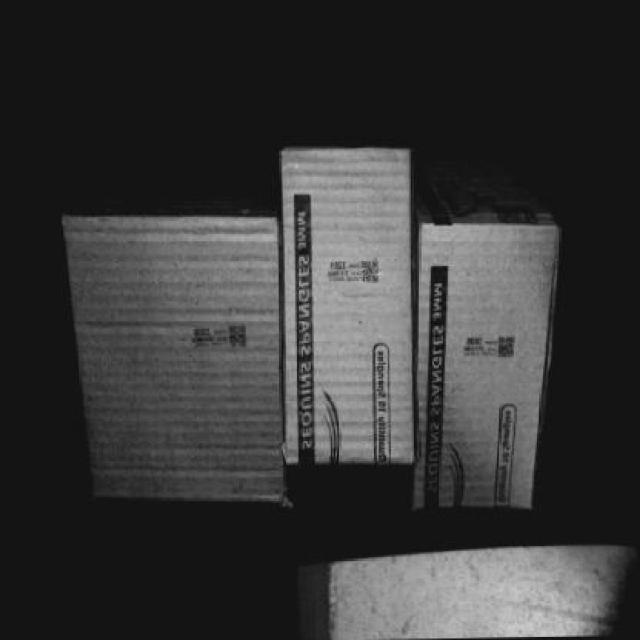cardboxes: (80, 223, 282, 492), (402, 222, 564, 503), (280, 145, 411, 469)
